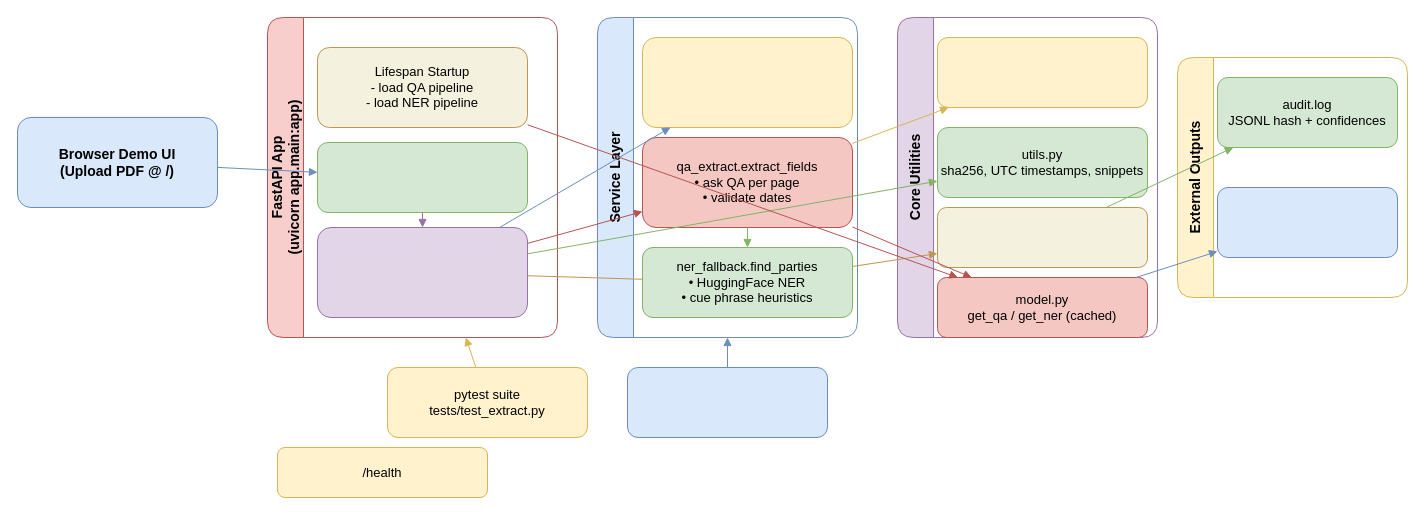
Some shapes in this 1425 by 515 pixel diagram are drawn without their labels. The centre of each missing label's shape, as x and y in pixels:
/extract Router - hash bytes - call services - append audit log: [422,272]
config.py Constants & regex: [1042,72]
eval/evaluate.py golden PDFs: [727,402]
Hugging Face cache (QA & NER models): [1307,222]
Jinja2 Templates demo.html & demo_guide.html: [422,177]
logging.py append audit JSONL: [1042,237]
pdf_text.extract_pages • pdfplumber • strip control chars: [747,82]
